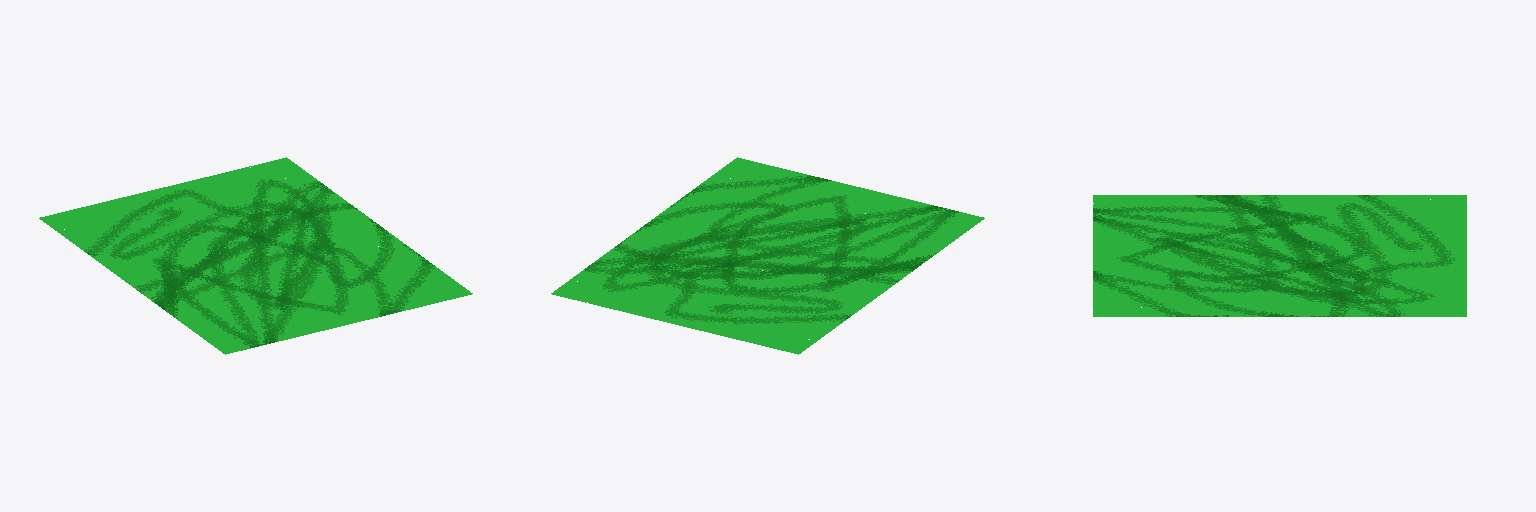
3 views of the same model, side by side, from view 1: azimuth 30°, elevation 25°; view 2: azimuth 150°, elevation 25°; view 3: azimuth 270°, elevation 25° (orthographic).
Visible parts, largest first — view 1: 平面; view 2: 平面; view 3: 平面.
Boxes of the visible parts, <box> form: 平面: <box>39,157,472,354</box>; 平面: <box>551,157,984,354</box>; 平面: <box>1093,195,1466,316</box>.
Bounding box in the file's own units: 1955 × 0.9843 × 2545.
Materials: 1 (1 with a texture image).